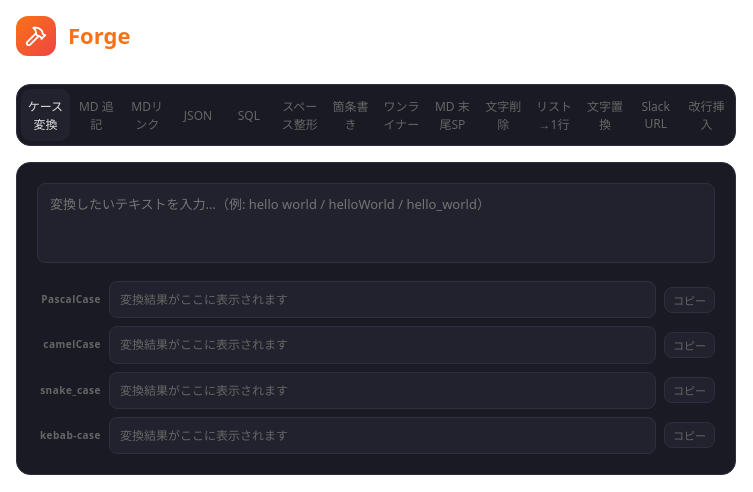
Test: SQL 整形 › SQL を入力するとキーワードが大文字の結果が自動表示される
Click the tab "SQL": (249, 115) [224,89,273,141]
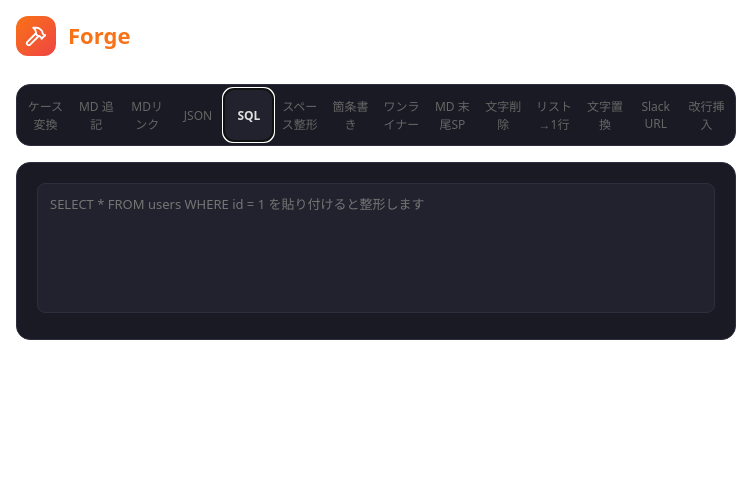
In the text box named "SQL入力": (376, 248) [37,183,715,313], type "select id from users"
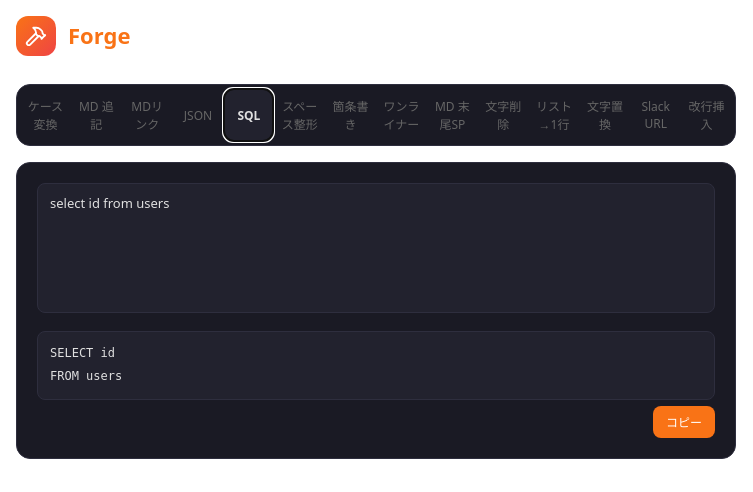
Result: the text named "SQL整形結果" shows "SELECT" at [50,346,122,383]
Result: the text named "SQL整形結果" shows "FROM" at [50,346,122,383]
